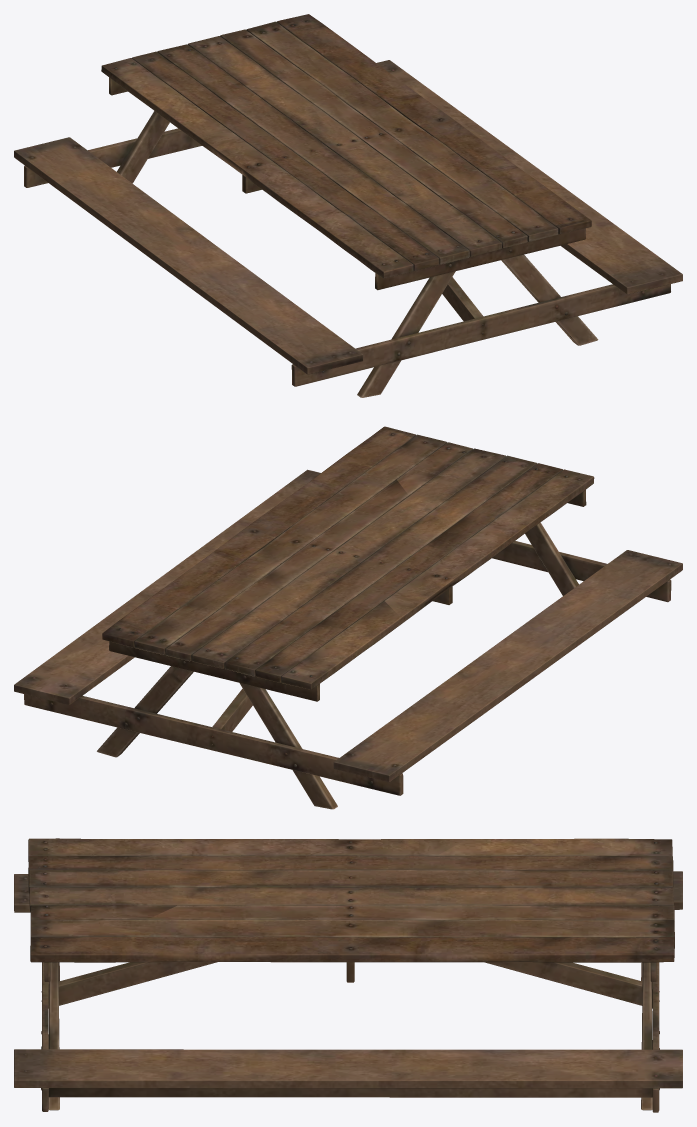
The model's file is table_pique_nique_lod0.glb.
3 renders of one model, top to bottom at view 1: azimuth 30°, elevation 25°; view 2: azimuth 150°, elevation 25°; view 3: azimuth 270°, elevation 25°, orthographic. The views are drawn at different scales.
Parts seen in each view (by area): view 1: wooden_picnic_table; view 2: wooden_picnic_table; view 3: wooden_picnic_table.
Part boxes in pixels (bbox=[...]): wooden_picnic_table: bbox=[14, 14, 682, 397]; wooden_picnic_table: bbox=[14, 426, 682, 809]; wooden_picnic_table: bbox=[14, 838, 682, 1112].
Size of the model in its own units: 2.24 by 0.746 by 3.02.
Materials: 2 (2 with a texture image).
